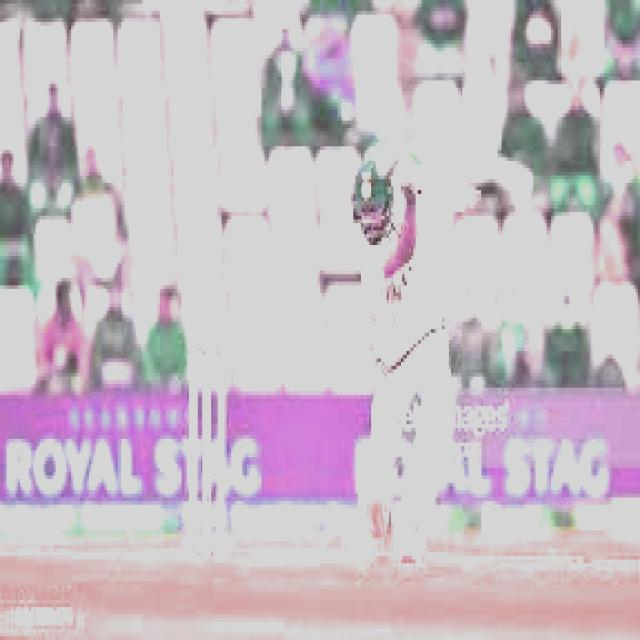toe: (441, 185, 480, 222)
